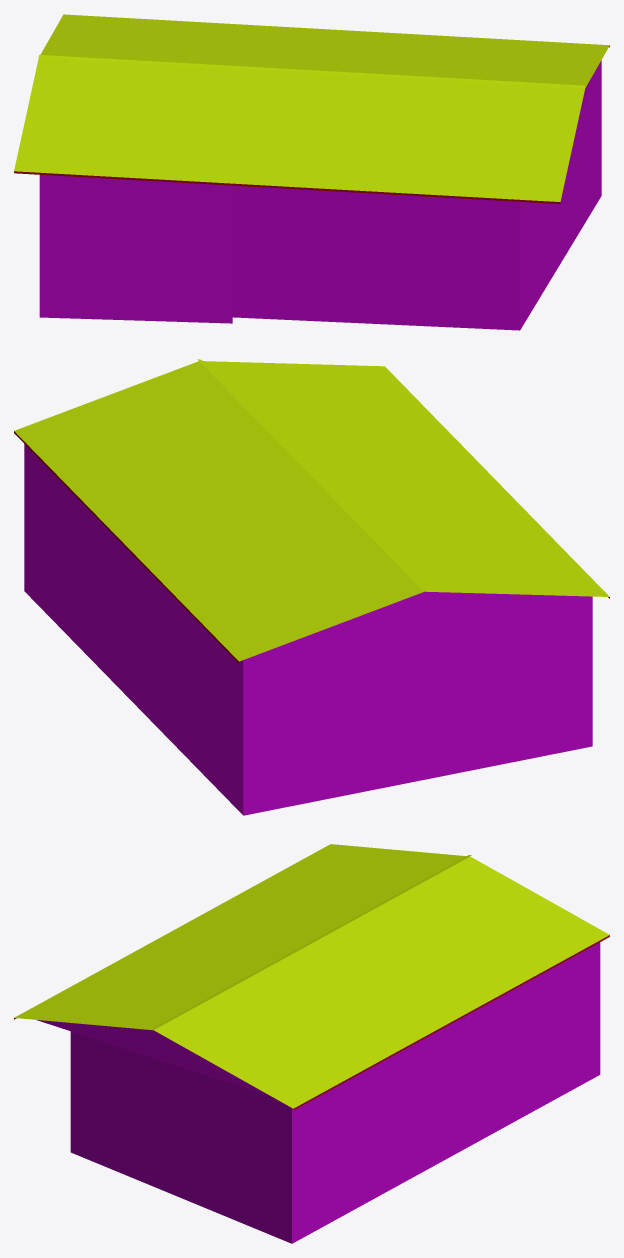
Rendered from srz_23.glb.
3 views of the same model, one above another, from view 1: azimuth 30°, elevation 25°; view 2: azimuth 150°, elevation 25°; view 3: azimuth 270°, elevation 25° (orthographic). The views are drawn at different scales.
Parts seen in each view (by area): view 1: srz_23; view 2: srz_23; view 3: srz_23.
Part boxes in pixels (x1=…): srz_23: x1=14, y1=14, x2=609, y2=330; srz_23: x1=14, y1=359, x2=609, y2=815; srz_23: x1=14, y1=844, x2=609, y2=1243.
Bounding box in the file's own units: 35.78 × 10.98 × 34.04.
